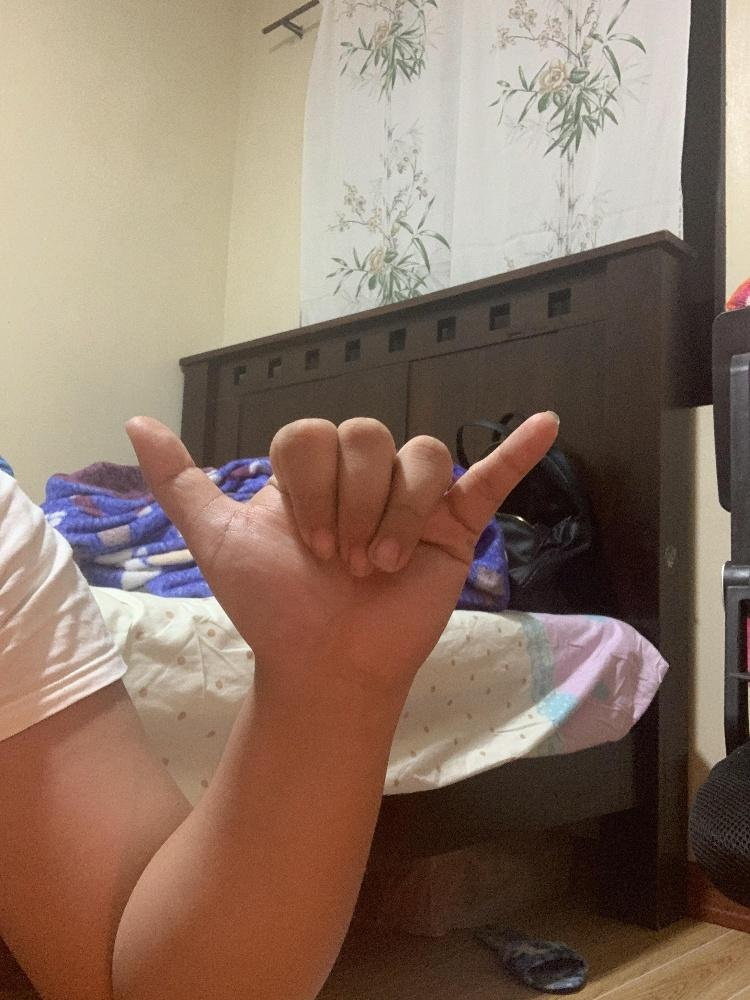y: (120, 407, 564, 682)
